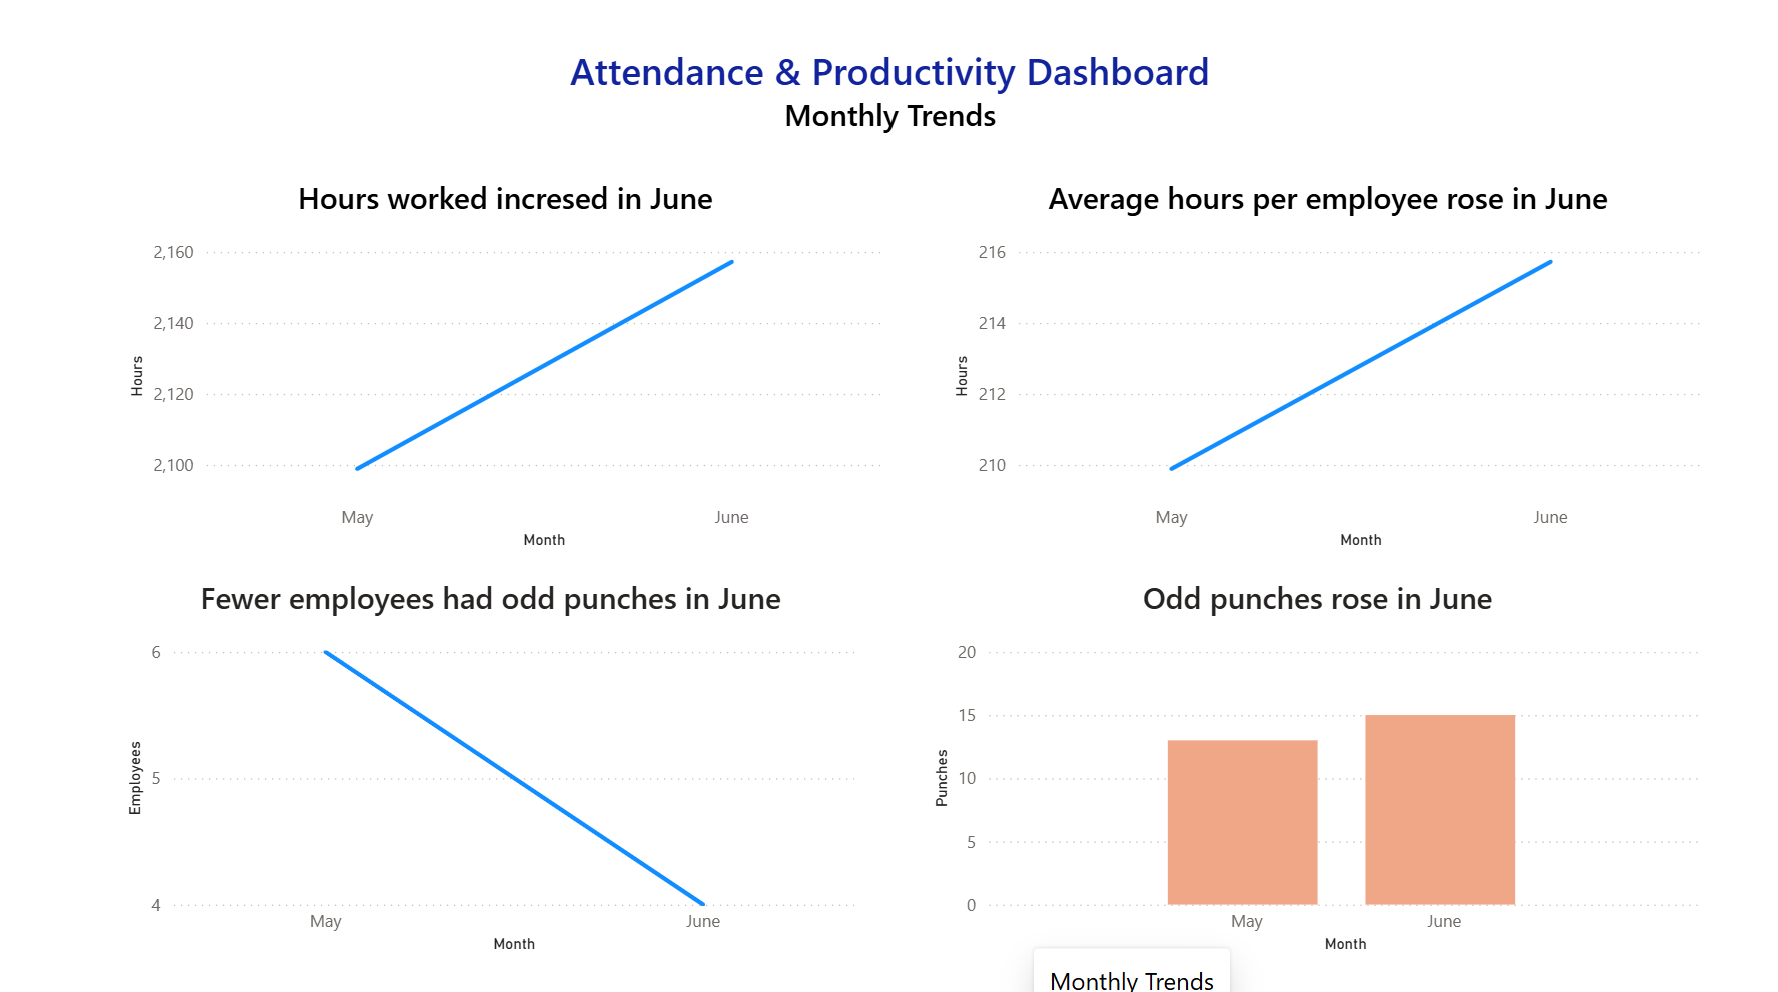

The page's visual inventory and layout, read from the dashboard file:
{"tool":"powerbi","page":{"name":"Monthly Trends","canvas":[1280,720],"ordinal":3},"visuals":[{"type":"lineChart","title":"Hours worked incresed in June","fields":{"Y":["Sum(public vw_company_summary.total_hours)"],"Category":["public vw_company_summary.Month_Name"]},"box":[91,131.9,547.5,270],"z":0},{"type":"lineChart","title":"Average hours per employee rose in June","fields":{"Category":["public vw_company_summary.Month_Name"],"Y":["Avg(public vw_company_summary.avg_hours)"]},"box":[679.4,131.9,544.5,270],"z":1000},{"type":"lineChart","title":"Fewer employees had odd punches in June","fields":{"Category":["public vw_company_summary.Month_Name"],"Y":["Sum(public vw_company_summary.employees_with_odd_punches)"]},"box":[89.5,417.1,529.3,273],"z":2000},{"type":"columnChart","title":"Odd punches rose in June","fields":{"Category":["public vw_employee_summary.Month_Name"],"Y":["Sum(public vw_employee_summary.Odd_Punches)"]},"box":[665.8,417.1,558.1,273],"z":3000},{"type":"textbox","box":[91,31.8,1096.5,100.1],"z":4000}]}

Visuals, with their boxes in screenshot pixels (x1, y1, x2, y2), scaled from the page's 1280x720 canvas onto the 1778x992 screenshot:
"Hours worked incresed in June" lineChart: (x1=126, y1=182, x2=887, y2=554)
"Average hours per employee rose in June" lineChart: (x1=944, y1=182, x2=1700, y2=554)
"Fewer employees had odd punches in June" lineChart: (x1=124, y1=575, x2=860, y2=951)
"Odd punches rose in June" columnChart: (x1=925, y1=575, x2=1700, y2=951)
textbox: (x1=126, y1=44, x2=1650, y2=182)
